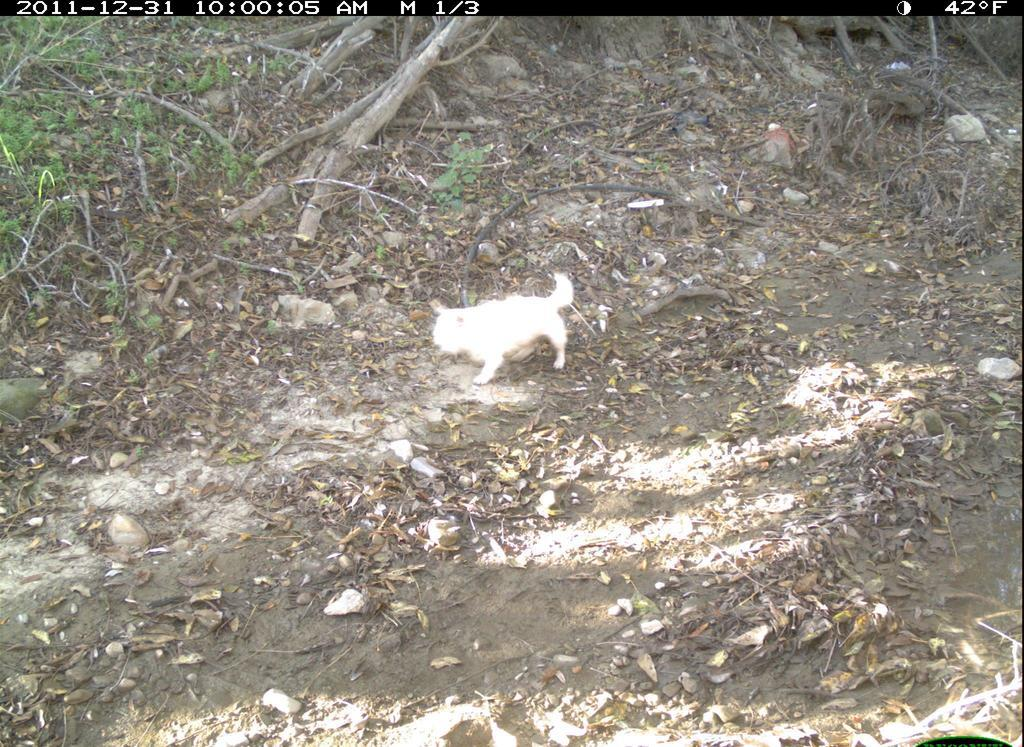dog: (418, 271, 585, 392)
